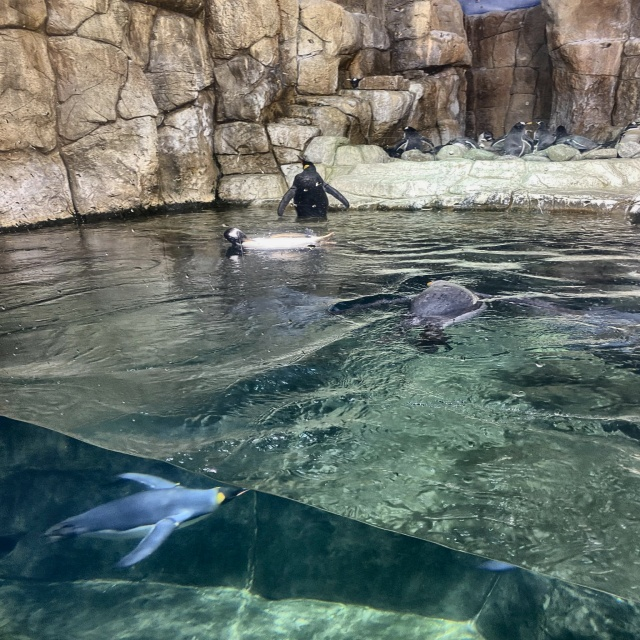penguin: (42, 472, 252, 568), (381, 279, 482, 354), (277, 151, 350, 220), (223, 228, 337, 255), (491, 120, 533, 160), (394, 127, 433, 159), (606, 119, 639, 150), (545, 125, 570, 156), (440, 135, 474, 153), (565, 133, 593, 154), (475, 131, 494, 150)
